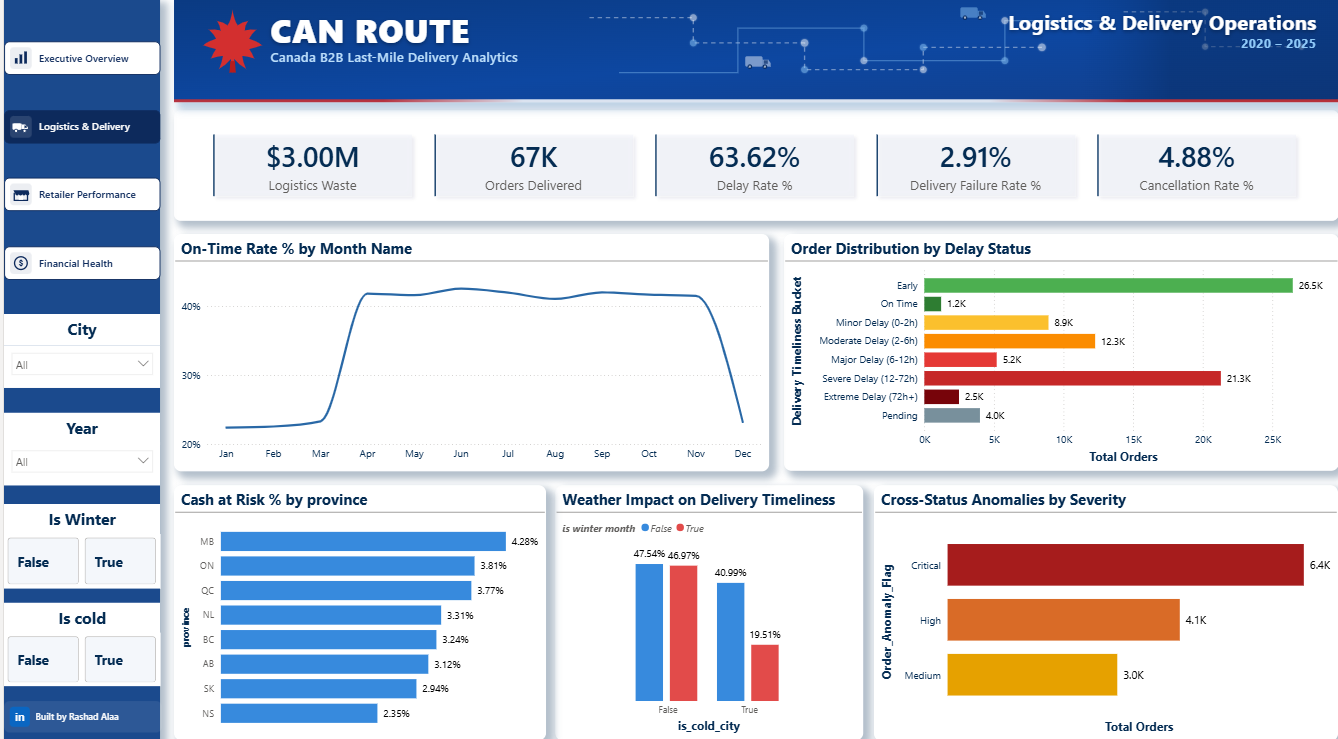

The page's visual inventory and layout, read from the dashboard file:
{"tool":"powerbi","page":{"name":"Logistics & Delivery Operations","canvas":[1800,1000],"ordinal":1},"visuals":[{"type":"cardVisual","fields":{"Data":["_Measures Table.Logistics Waste","_Measures Table.Orders Delivered","_Measures Table.Delay Rate %","_Measures Table.Delivery Failure Rate %","_Measures Table.Cancellation Rate %"]},"box":[229.6,139.1,1570,150.8],"z":0},{"type":"image","box":[229.6,0,1570,139.1],"z":1000},{"type":"barChart","title":"Order Distribution by Delay Status","fields":{"Category":["fact_orders.Delivery Timeliness Bucket"],"Y":["_Measures Table.Total Orders"]},"box":[1052.3,310,747.3,326.7],"z":2000},{"type":"shape","box":[0,0,210.7,1000.2],"z":3000},{"type":"advancedSlicerVisual","fields":{"Values":["dim_areas.is_cold"]},"box":[0,855.3,211.1,72.1],"z":4000},{"type":"slicer","fields":{"Values":["dim_areas.city"]},"box":[0,467.2,210.7,57.3],"z":5000},{"type":"textbox","box":[0,425.3,210.7,42.1],"z":6000},{"type":"textbox","box":[0,557.3,210.7,42.1],"z":7000},{"type":"slicer","fields":{"Values":["dim_date.year"]},"box":[0,599,210.7,57.3],"z":8000},{"type":"textbox","box":[0,813.6,210.7,42.1],"z":9000},{"type":"textbox","box":[-0.7,680.5,210.7,42.1],"z":10000},{"type":"advancedSlicerVisual","fields":{"Values":["dim_date.is_winter"]},"box":[-0.7,721.9,211.1,73.7],"z":11000},{"type":"clusteredColumnChart","title":"Weather Impact on Delivery Timeliness","fields":{"Category":["fact_orders.is_cold_city"],"Series":["fact_orders.is_winter_month"],"Y":["_Measures Table.On-Time Rate %"]},"box":[743.1,656.2,415,344],"z":12000},{"type":"lineChart","title":"On-Time Rate % by Month Name","fields":{"Category":["dim_date._date.year","dim_date._date.Month__Name"],"Y":["_Measures Table.On-Time Rate %"]},"box":[229.6,310,802.6,326.7],"z":13000},{"type":"clusteredBarChart","fields":{"Category":["dim_areas.province","dim_areas.city"],"Y":["_Measures Table.Cash at Risk %"]},"box":[229.9,655.8,501.9,344],"z":14000},{"type":"image","box":[0,33.5,211.1,92.2],"z":15000},{"type":"image","box":[0,125.7,211.1,92.2],"z":16000},{"type":"image","box":[0,217.8,211.1,92.2],"z":17000},{"type":"image","box":[0,310,211.1,92.2],"z":18000},{"type":"image","box":[0,935,212.8,65.3],"z":19000},{"type":"barChart","title":"Cross-Status Anomalies by Severity","fields":{"Category":["fact_orders.Order_Anomaly_Flag"],"Y":["_Measures Table.Total Orders"]},"box":[1173.7,655.6,625.9,344.7],"z":20000}]}

Visuals, with their boxes on the page's 1800x1000 design canvas (x1, y1, x2, y2). These are canvas units, not pixel positions in the 1338x739 screenshot, which may show the page scaled, cropped or inside an application window:
cardVisual - _Measures Table.Logistics Waste x _Measures Table.Orders Delivered: (left=230, top=139, right=1800, bottom=290)
image: (left=230, top=0, right=1800, bottom=139)
"Order Distribution by Delay Status" barChart: (left=1052, top=310, right=1800, bottom=637)
shape: (left=0, top=0, right=211, bottom=1000)
advancedSlicerVisual - dim_areas.is_cold: (left=0, top=855, right=211, bottom=927)
slicer - dim_areas.city: (left=0, top=467, right=211, bottom=524)
textbox: (left=0, top=425, right=211, bottom=467)
textbox: (left=0, top=557, right=211, bottom=599)
slicer - dim_date.year: (left=0, top=599, right=211, bottom=656)
textbox: (left=0, top=814, right=211, bottom=856)
textbox: (left=-1, top=680, right=210, bottom=723)
advancedSlicerVisual - dim_date.is_winter: (left=-1, top=722, right=210, bottom=796)
"Weather Impact on Delivery Timeliness" clusteredColumnChart: (left=743, top=656, right=1158, bottom=1000)
"On-Time Rate % by Month Name" lineChart: (left=230, top=310, right=1032, bottom=637)
clusteredBarChart - dim_areas.province x dim_areas.city: (left=230, top=656, right=732, bottom=1000)
image: (left=0, top=34, right=211, bottom=126)
image: (left=0, top=126, right=211, bottom=218)
image: (left=0, top=218, right=211, bottom=310)
image: (left=0, top=310, right=211, bottom=402)
image: (left=0, top=935, right=213, bottom=1000)
"Cross-Status Anomalies by Severity" barChart: (left=1174, top=656, right=1800, bottom=1000)
